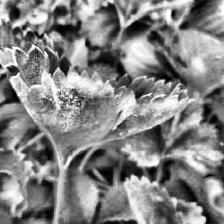Powdery Mildew Leaf: (10, 66, 124, 166), (96, 72, 198, 146)
